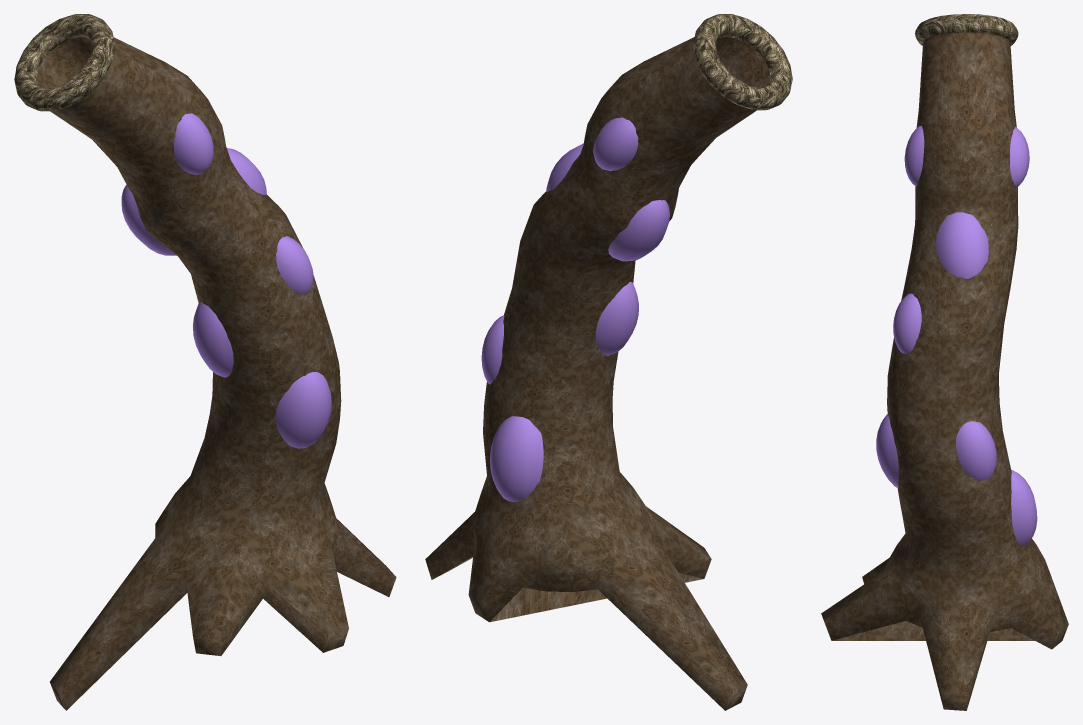
Rendered from TubePlant1.fbx.
3 views of the same model, side by side, from view 1: azimuth 30°, elevation 25°; view 2: azimuth 150°, elevation 25°; view 3: azimuth 270°, elevation 25° (orthographic). The views are drawn at different scales.
Parts seen in each view (by area): view 1: polySurface1, pasted__pasted__pSphere1 (×3), pasted__pSphere1 (×2), pSphere1; view 2: polySurface1, pasted__pasted__pSphere1 (×3), pasted__pasted__pasted__pSphere1, pasted__pSphere1 (×2); view 3: polySurface1, pasted__pSphere1 (×3), pasted__pasted__pSphere1 (×2), pasted__pasted__pasted__pSphere1, pSphere1.
Part boxes in pixels (x1=…): polySurface1: x1=14, y1=14, x2=396, y2=710; pasted__pasted__pSphere1 (×3): x1=121, y1=185, x2=331, y2=448; pasted__pSphere1 (×2): x1=227, y1=148, x2=313, y2=294; pSphere1: x1=173, y1=113, x2=213, y2=174; polySurface1: x1=425, y1=14, x2=792, y2=710; pasted__pasted__pSphere1 (×3): x1=481, y1=200, x2=670, y2=384; pasted__pasted__pasted__pSphere1: x1=490, y1=416, x2=543, y2=501; pasted__pSphere1 (×2): x1=546, y1=117, x2=638, y2=191; polySurface1: x1=821, y1=14, x2=1068, y2=710; pasted__pSphere1 (×3): x1=893, y1=127, x2=1029, y2=353; pasted__pasted__pSphere1 (×2): x1=876, y1=414, x2=996, y2=487; pasted__pasted__pasted__pSphere1: x1=1011, y1=469, x2=1037, y2=546; pSphere1: x1=904, y1=126, x2=924, y2=186.
Bounding box in the file's own units: 16.05 × 28.96 × 10.58.
6 materials, 3 textured.
